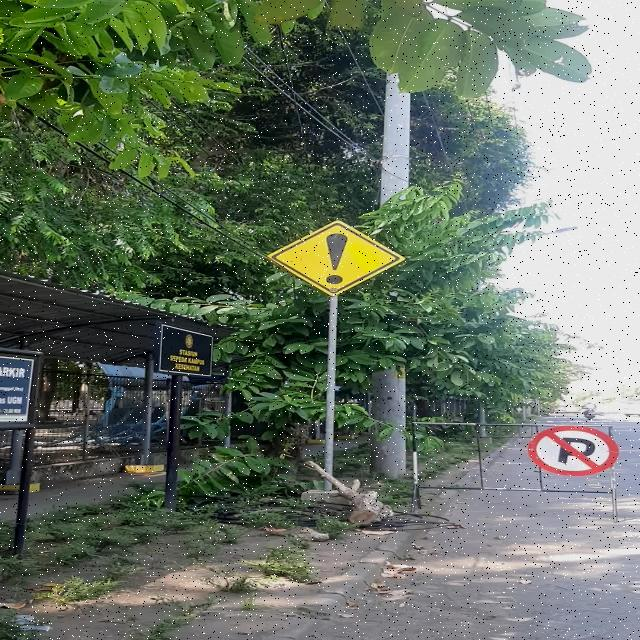Hati-Hati: (268, 219, 406, 296)
